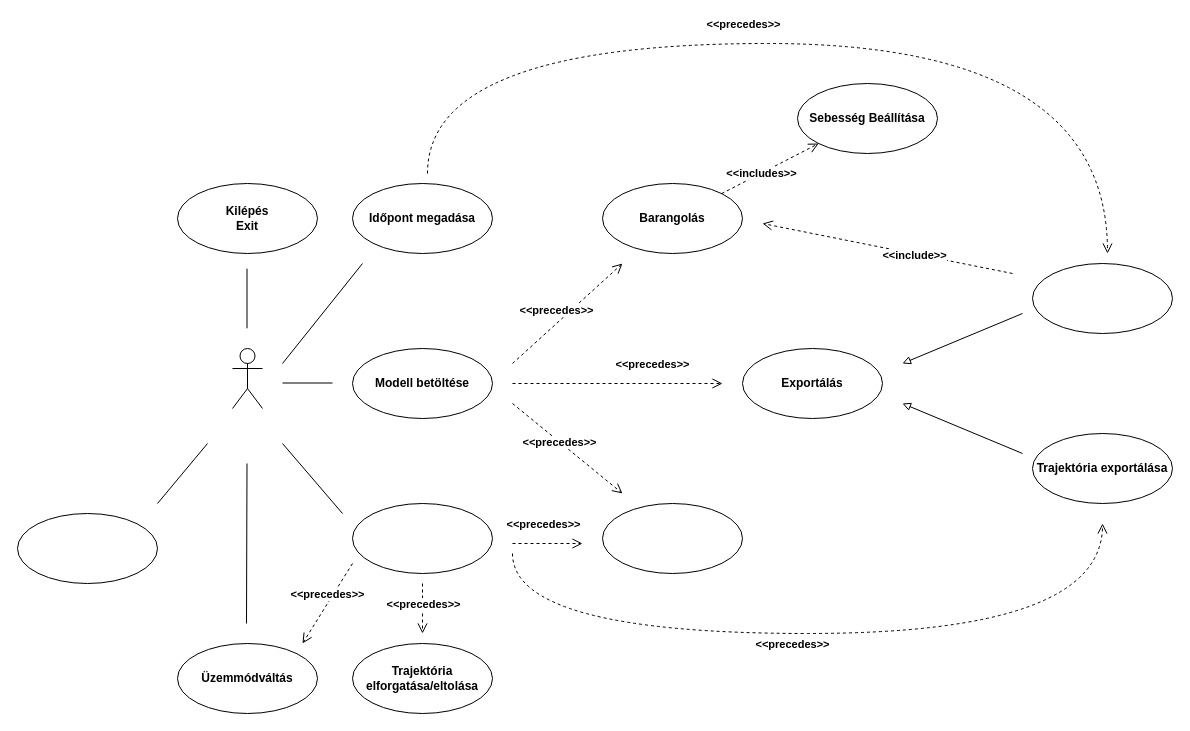
Some shapes in this 1190 by 731 pixel diagram are drawn without their labels. Here are the shapes that lost their labels. From the top down, the centre of each, then its label:
the point at 1102,298: Barangolás exportálása
the point at 247,378: Felhasználó User
the point at 87,548: Kamera paraméterek betöltése
the point at 422,538: Kamera trajektóriák betöltése
the point at 672,538: Trajektória lejátszása
